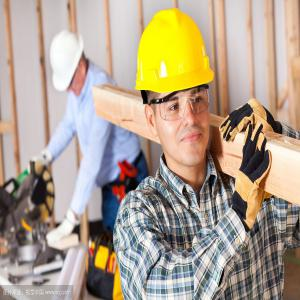white: (49, 29, 90, 99)
yellow: (138, 9, 214, 168)
